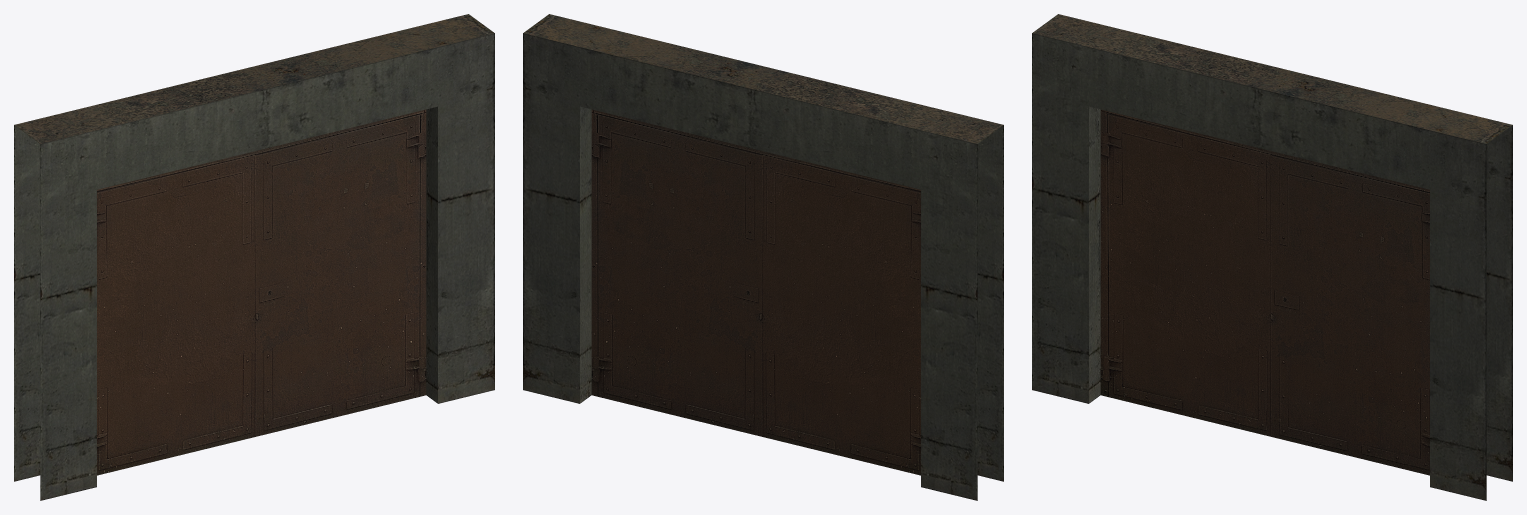
Rendered from garage_door_frame_rg_2.obj.
The picture shows the model from 3 angles, left to right: view 1: azimuth 30°, elevation 25°; view 2: azimuth 150°, elevation 25°; view 3: azimuth 330°, elevation 25°; orthographic projection.
Visible parts, largest first — view 1: garage_door_hm_3, garage_door_frame_rg_2; view 2: garage_door_hm_3, garage_door_frame_rg_2; view 3: garage_door_hm_3, garage_door_frame_rg_2.
Boxes of the visible parts, x1=… form: garage_door_hm_3: x1=97, y1=109, x2=426, y2=475; garage_door_frame_rg_2: x1=14, y1=14, x2=494, y2=500; garage_door_hm_3: x1=591, y1=109, x2=920, y2=475; garage_door_frame_rg_2: x1=523, y1=14, x2=1003, y2=500; garage_door_hm_3: x1=1100, y1=109, x2=1429, y2=475; garage_door_frame_rg_2: x1=1032, y1=14, x2=1512, y2=500.
Bounding box in the file's own units: 4 × 3 × 0.4.
